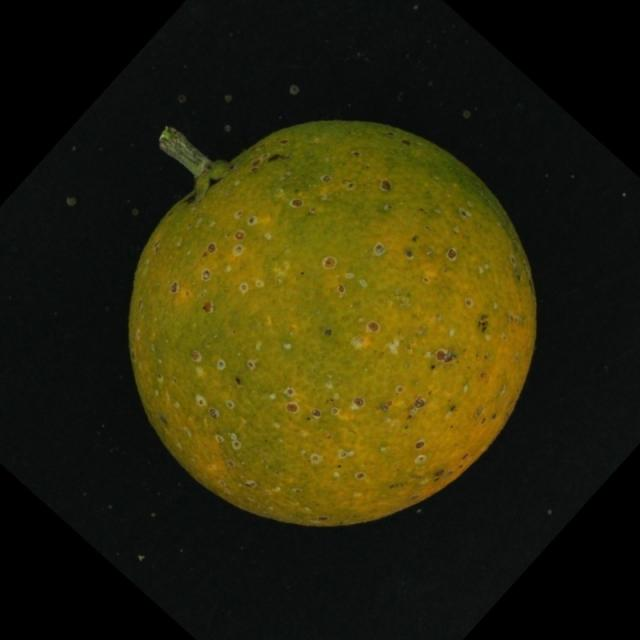grenning: (108, 94, 556, 541)
